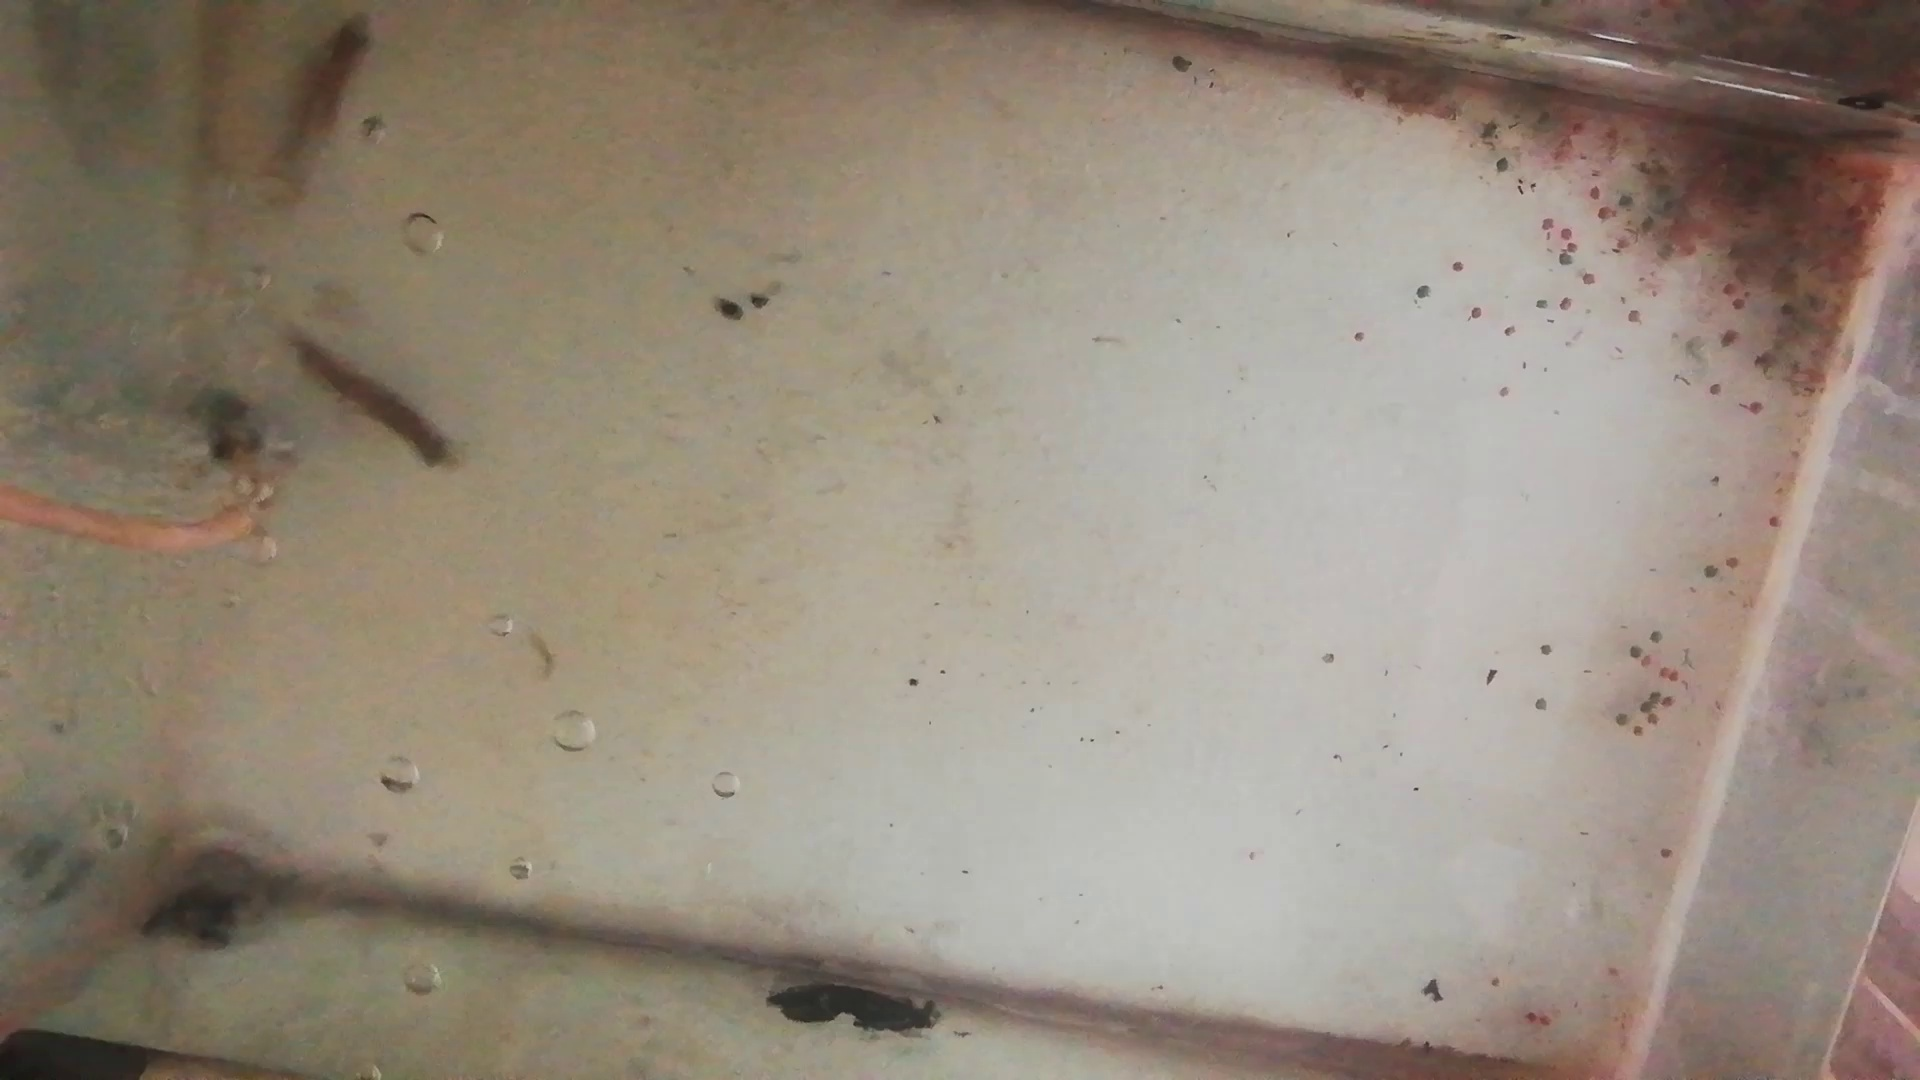fish: (287, 332, 462, 479), (262, 13, 377, 191)
